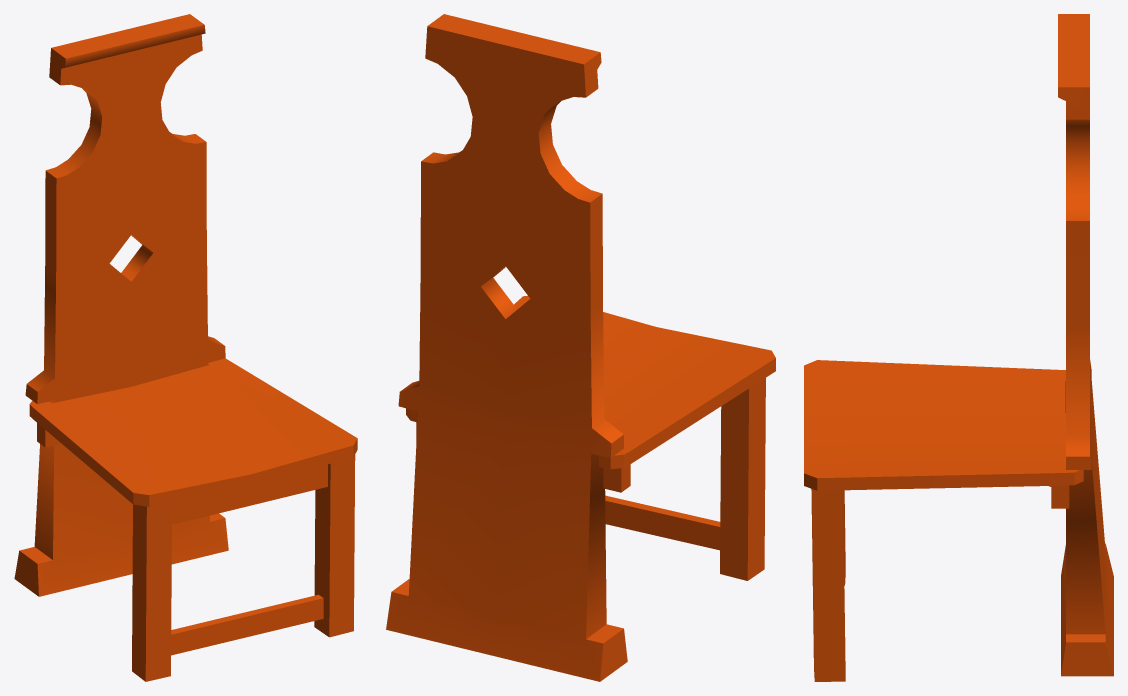
File: CHAIR.glb
The picture shows the model from 3 angles, left to right: view 1: azimuth 30°, elevation 25°; view 2: azimuth 150°, elevation 25°; view 3: azimuth 270°, elevation 25°; orthographic projection. The views are drawn at different scales.
Parts seen in each view (by area): view 1: Prop_Chair_F; view 2: Prop_Chair_F; view 3: Prop_Chair_F.
Part boxes in pixels (x1,y1,x2,y2): Prop_Chair_F: [14, 14, 357, 681]; Prop_Chair_F: [386, 14, 775, 681]; Prop_Chair_F: [804, 14, 1113, 681].
Bounding box in the file's own units: 0.6599 × 1.5 × 0.7314.
